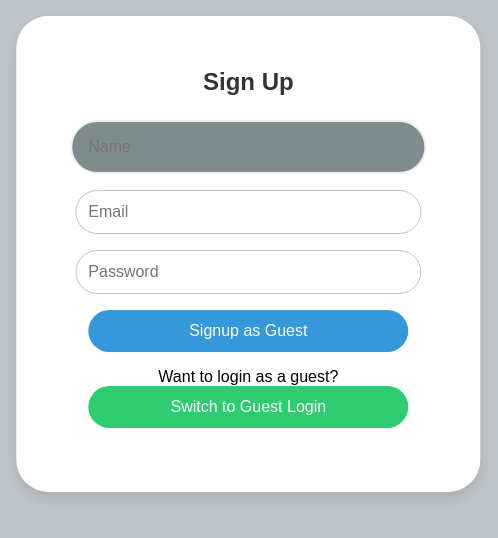
Test: GuestSignup › displays error when fields are empty
Click the button "Signup as Guest".
click(248, 331)  # box [88,310,408,352]
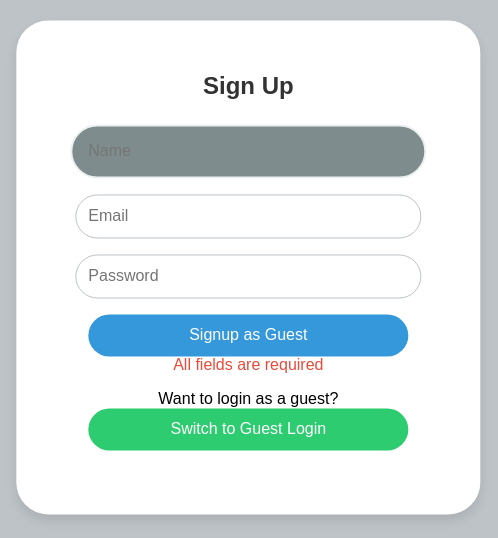
expect the text "All fields are required" is shown: met, box [173,356,324,373]
